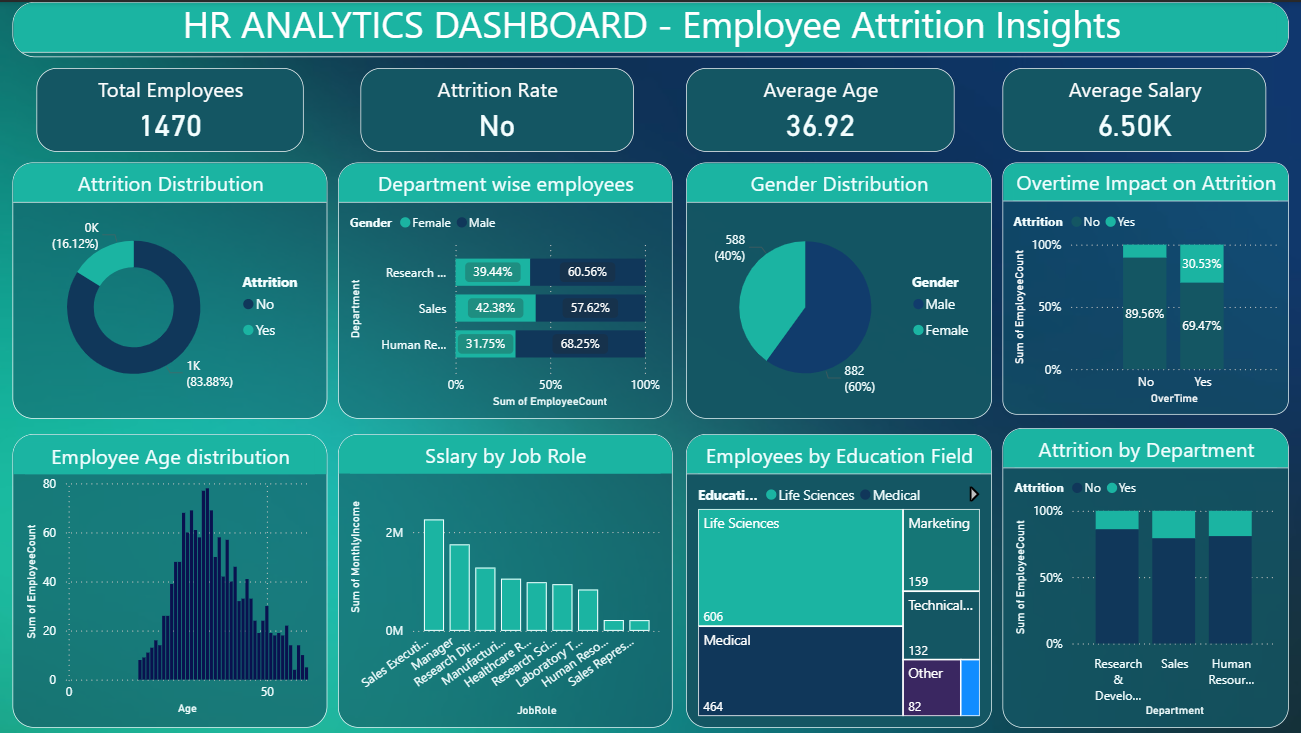

Layout of this report page (visuals, bound fields, positions):
{"tool":"powerbi","page":{"name":"Page 1","canvas":[1280,720],"ordinal":0},"visuals":[{"type":"card","title":"Total Employees","fields":{"Values":["Sum(HR_Analytics_Data.EmployeeCount)"]},"box":[36.7,64.6,261.2,82.2],"z":0},{"type":"card","title":"Attrition Rate","fields":{"Values":["Min(HR_Analytics_Data.Attrition)"]},"box":[353.6,64.6,267.1,82.2],"z":1000},{"type":"card","title":"Average Age","fields":{"Values":["Avg(HR_Analytics_Data.Age)"]},"box":[672.1,64.6,262.7,82.2],"z":2000},{"type":"card","title":"Average Salary","fields":{"Values":["Avg(HR_Analytics_Data.MonthlyIncome)"]},"box":[981.7,64.6,258.3,82.2],"z":3000},{"type":"donutChart","title":"Attrition Distribution","fields":{"Category":["HR_Analytics_Data.Attrition"],"Y":["Sum(HR_Analytics_Data.EmployeeCount)"]},"box":[13.2,157,308.2,250.9],"z":4000},{"type":"hundredPercentStackedBarChart","title":"Department wise employees","fields":{"Category":["HR_Analytics_Data.Department"],"Y":["Sum(HR_Analytics_Data.EmployeeCount)"],"Series":["HR_Analytics_Data.Gender"]},"box":[331.6,157,327.2,250.9],"z":5000},{"type":"hundredPercentStackedColumnChart","title":"Attrition by Department","fields":{"Category":["HR_Analytics_Data.Department"],"Y":["Sum(HR_Analytics_Data.EmployeeCount)"],"Series":["HR_Analytics_Data.Attrition"]},"box":[981.7,416.7,280.3,293.5],"z":7000},{"type":"pieChart","title":"Gender Distribution","fields":{"Category":["HR_Analytics_Data.Gender"],"Y":["Sum(HR_Analytics_Data.EmployeeCount)"]},"box":[672.1,157,299.4,250.9],"z":8000},{"type":"clusteredColumnChart","title":"Sslary by Job Role","fields":{"Category":["HR_Analytics_Data.JobRole"],"Y":["Sum(HR_Analytics_Data.MonthlyIncome)"]},"box":[331.6,422.6,327.2,287.6],"z":9000},{"type":"clusteredColumnChart","title":"Employee Age distribution","fields":{"Category":["HR_Analytics_Data.Age"],"Y":["Sum(HR_Analytics_Data.EmployeeCount)"]},"box":[13.2,422.6,308.2,287.6],"z":10000},{"type":"hundredPercentStackedColumnChart","title":"Overtime Impact on Attrition","fields":{"Category":["HR_Analytics_Data.OverTime"],"Y":["Sum(HR_Analytics_Data.EmployeeCount)"],"Series":["HR_Analytics_Data.Attrition"]},"box":[981.7,157,280.3,246.5],"z":11000},{"type":"treemap","title":"Employees by Education Field","fields":{"Group":["HR_Analytics_Data.EducationField"],"Values":["Sum(HR_Analytics_Data.EmployeeCount)"]},"box":[672.1,422.6,299.4,287.6],"z":12000},{"type":"textbox","title":"HR ANALYTICS DASHBOARD - Employee Attrition Insights","box":[13.2,0,1248.8,54.3],"z":12001}]}

Visuals, with their boxes in screenshot pixels (x1, y1, x2, y2), scaled from the page's 1280x720 canvas onto the 1301x733 screenshot:
"Total Employees" card: [37, 66, 303, 149]
"Attrition Rate" card: [359, 66, 631, 149]
"Average Age" card: [683, 66, 950, 149]
"Average Salary" card: [998, 66, 1260, 149]
"Attrition Distribution" donutChart: [13, 160, 327, 415]
"Department wise employees" hundredPercentStackedBarChart: [337, 160, 670, 415]
"Attrition by Department" hundredPercentStackedColumnChart: [998, 424, 1283, 723]
"Gender Distribution" pieChart: [683, 160, 987, 415]
"Sslary by Job Role" clusteredColumnChart: [337, 430, 670, 723]
"Employee Age distribution" clusteredColumnChart: [13, 430, 327, 723]
"Overtime Impact on Attrition" hundredPercentStackedColumnChart: [998, 160, 1283, 411]
"Employees by Education Field" treemap: [683, 430, 987, 723]
"HR ANALYTICS DASHBOARD - Employee Attrition Insights" textbox: [13, 0, 1283, 55]
